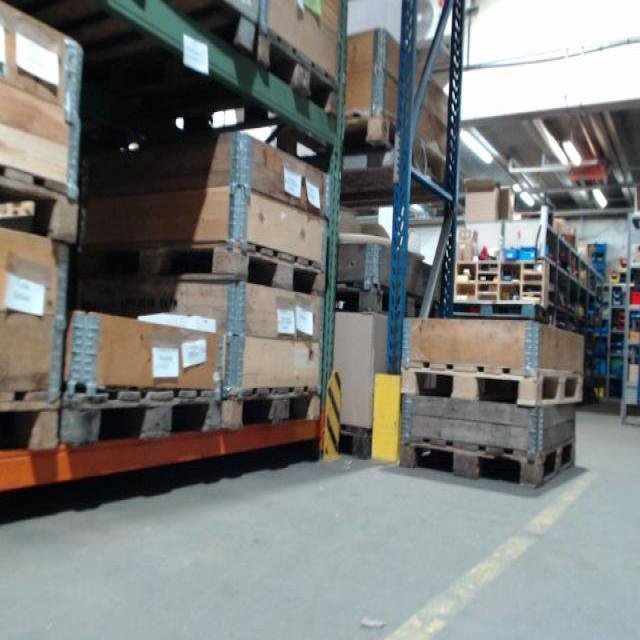pallet: (79, 232, 326, 293), (345, 109, 467, 201), (405, 429, 572, 496), (81, 1, 251, 60), (60, 382, 220, 440), (400, 362, 586, 408), (256, 21, 340, 112), (2, 163, 81, 248), (223, 381, 324, 429), (1, 383, 62, 461), (338, 282, 421, 319)
